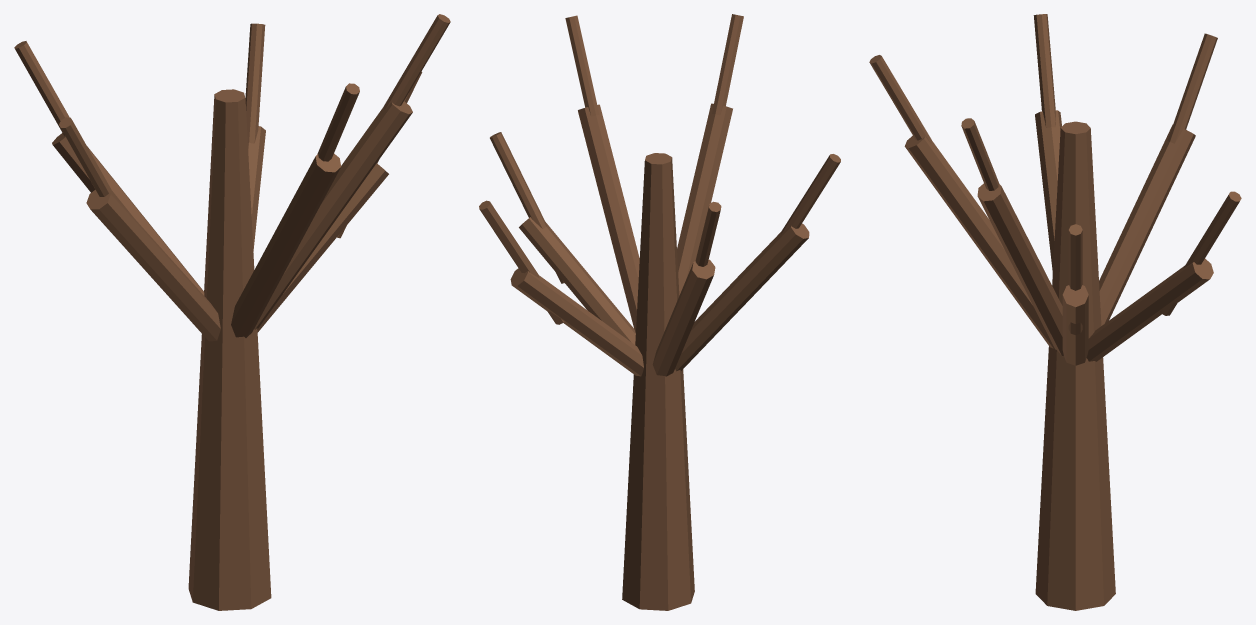
The model's file is nature_dead.glb.
3 renders of one model, left to right at view 1: azimuth 30°, elevation 25°; view 2: azimuth 150°, elevation 25°; view 3: azimuth 270°, elevation 25°, orthographic. The views are drawn at different scales.
Visible parts, largest first — view 1: nature_dead; view 2: nature_dead; view 3: nature_dead.
Part boxes in pixels (left/top/right/bottom): nature_dead: left=14, top=14, right=450, bottom=610; nature_dead: left=479, top=14, right=840, bottom=610; nature_dead: left=869, top=14, right=1241, bottom=610.
Size of the model in its own units: 2.05 by 2.99 by 1.85.
